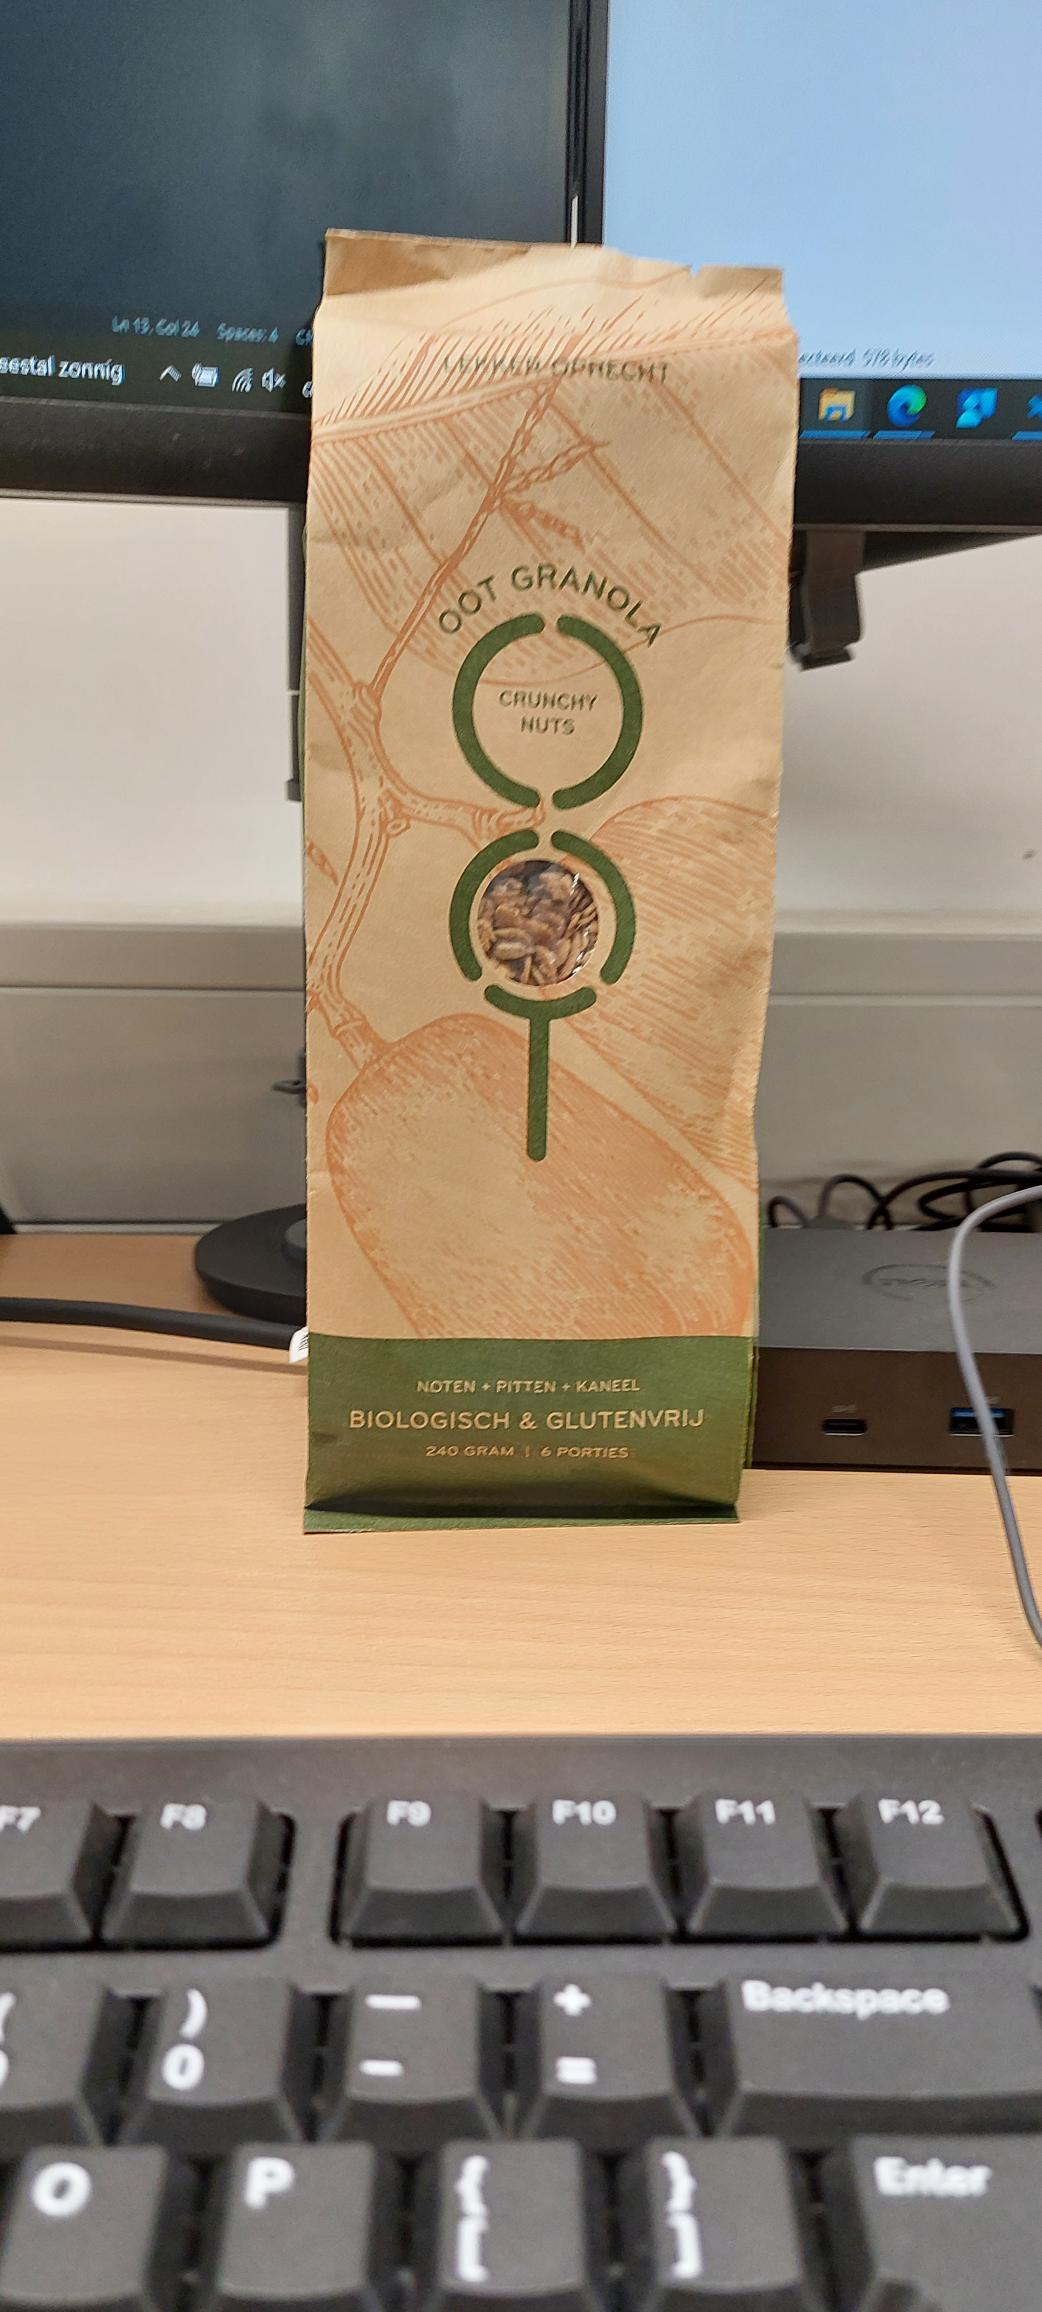CrunchyNuts: (330, 311, 730, 1504)
